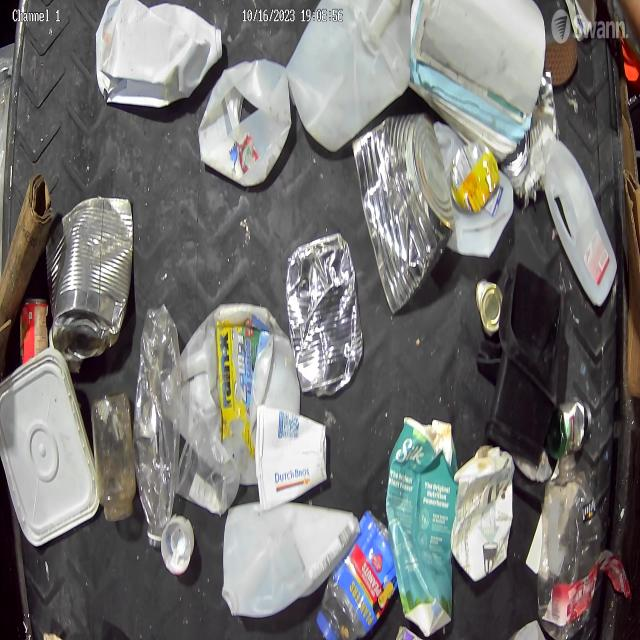can: (349, 109, 456, 320), (44, 188, 138, 366), (284, 233, 364, 403), (448, 139, 501, 216), (18, 292, 50, 376), (474, 274, 505, 339), (500, 127, 532, 182)
milk_jug: (164, 300, 303, 492), (285, 0, 413, 155), (220, 501, 361, 625), (539, 132, 620, 312), (95, 0, 224, 113), (197, 56, 290, 191), (432, 118, 516, 259)
non_white_jug: (383, 408, 458, 640)
plastic_bottle: (132, 296, 185, 550), (534, 450, 604, 640)
